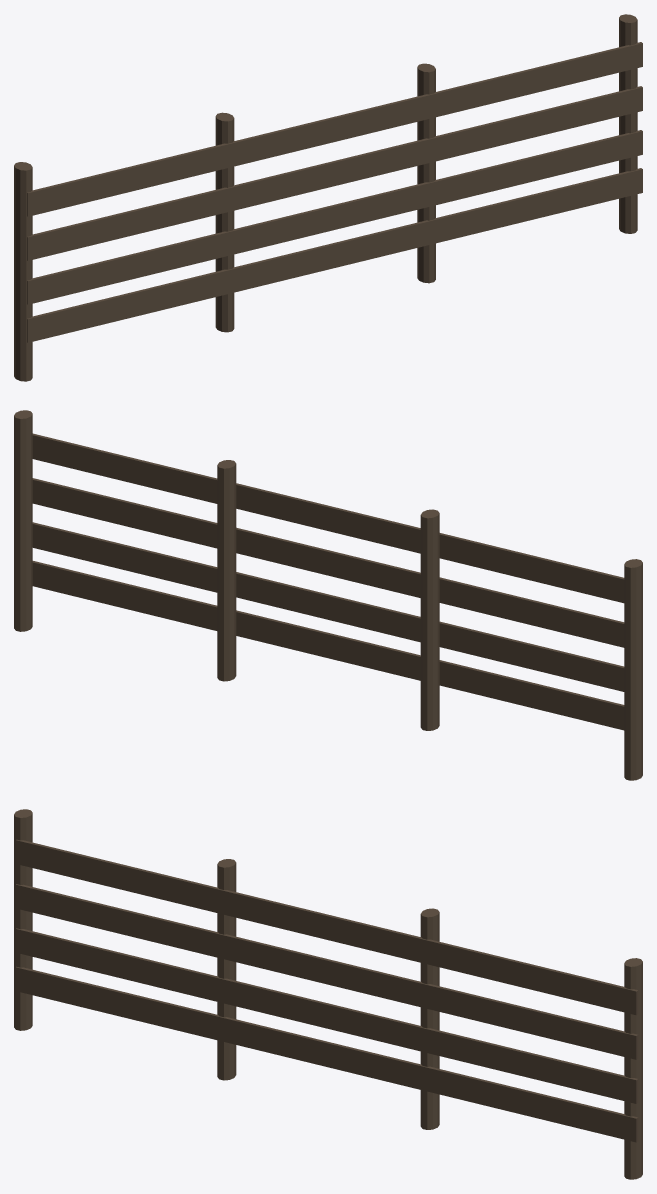
File: Fencce.fbx
The picture shows the model from 3 angles, top to bottom: view 1: azimuth 30°, elevation 25°; view 2: azimuth 150°, elevation 25°; view 3: azimuth 330°, elevation 25°; orthographic projection.
Parts seen in each view (by area): view 1: Fence; view 2: Fence; view 3: Fence.
Part boxes in pixels (x1,y1,x2,y2): Fence: (14, 14, 642, 381); Fence: (14, 410, 642, 780); Fence: (14, 809, 642, 1179).
Size of the model in its own units: 4.88 by 1.58 by 0.1527.
